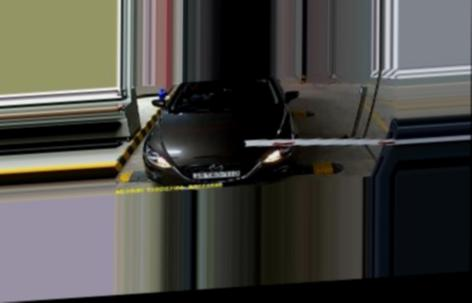License_Plate: (192, 167, 239, 182)
